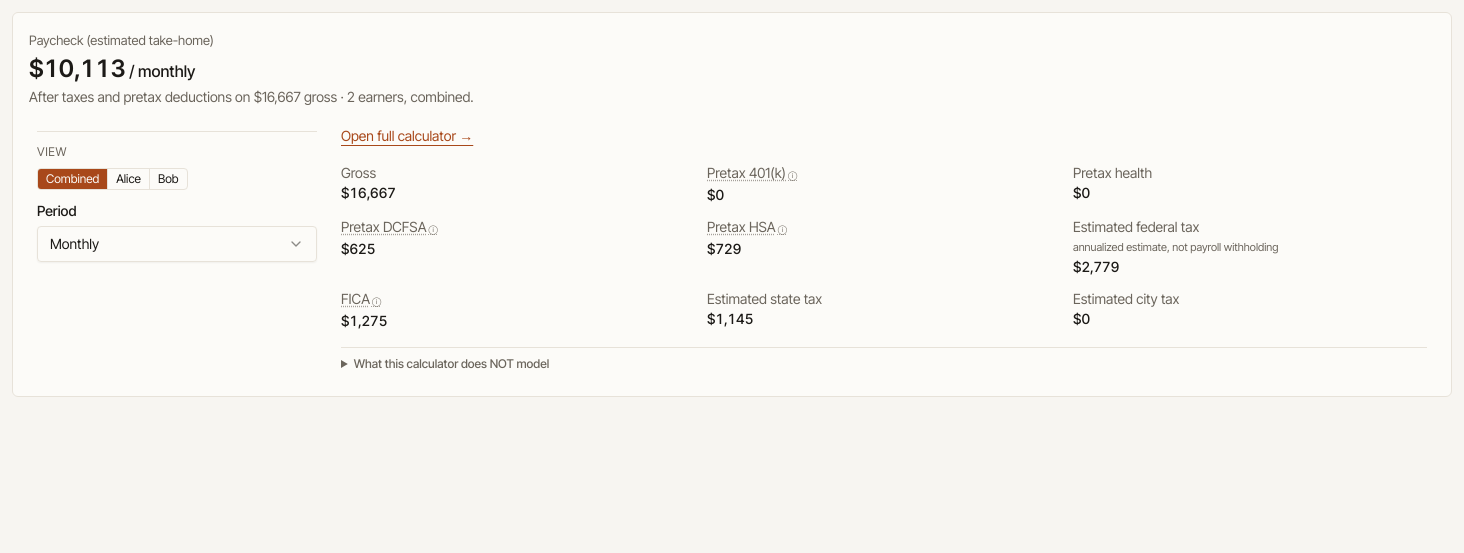
Test: PaycheckCard › dual-earner DCFSA/HSA cap once per return on the paycheck card (round-3 M1)
The image size is (1464, 553).
expect the element with test id "paycheck-takehome" is shown: met, box [29,54,196,82]
# Annual period so the pretax rows show the yearly caps verbatim.
Click the dropdown named "period": (75, 243) [37,226,317,262]
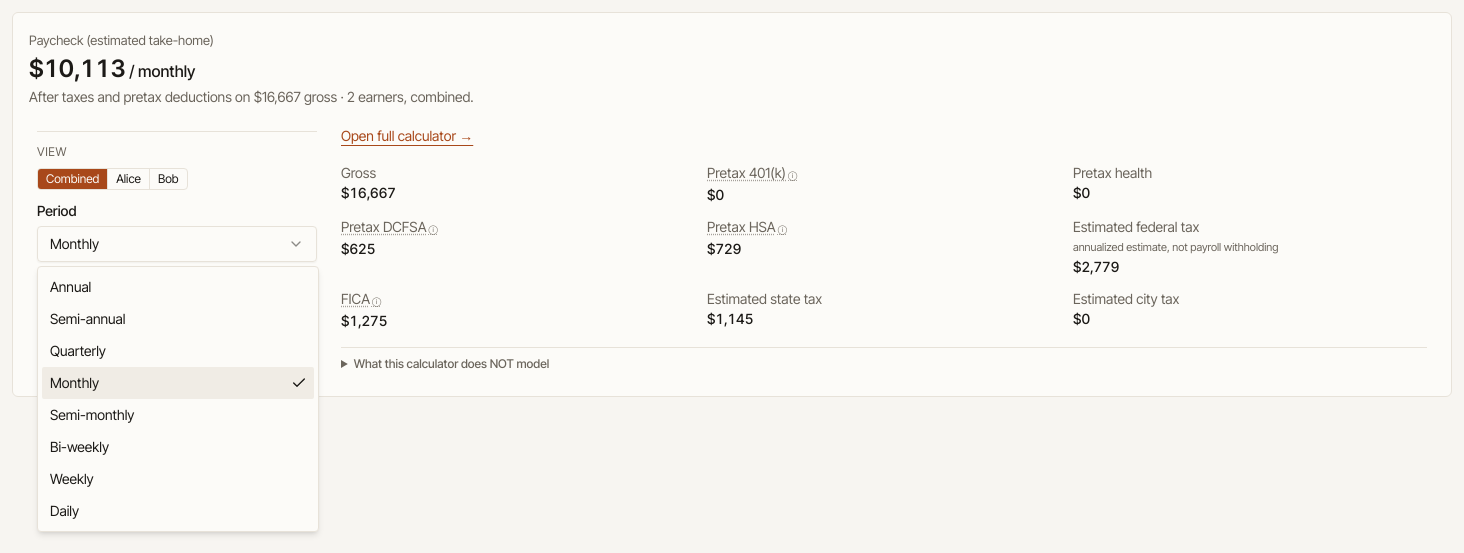
Click the option "Annual": (71, 286) [50,278,91,295]
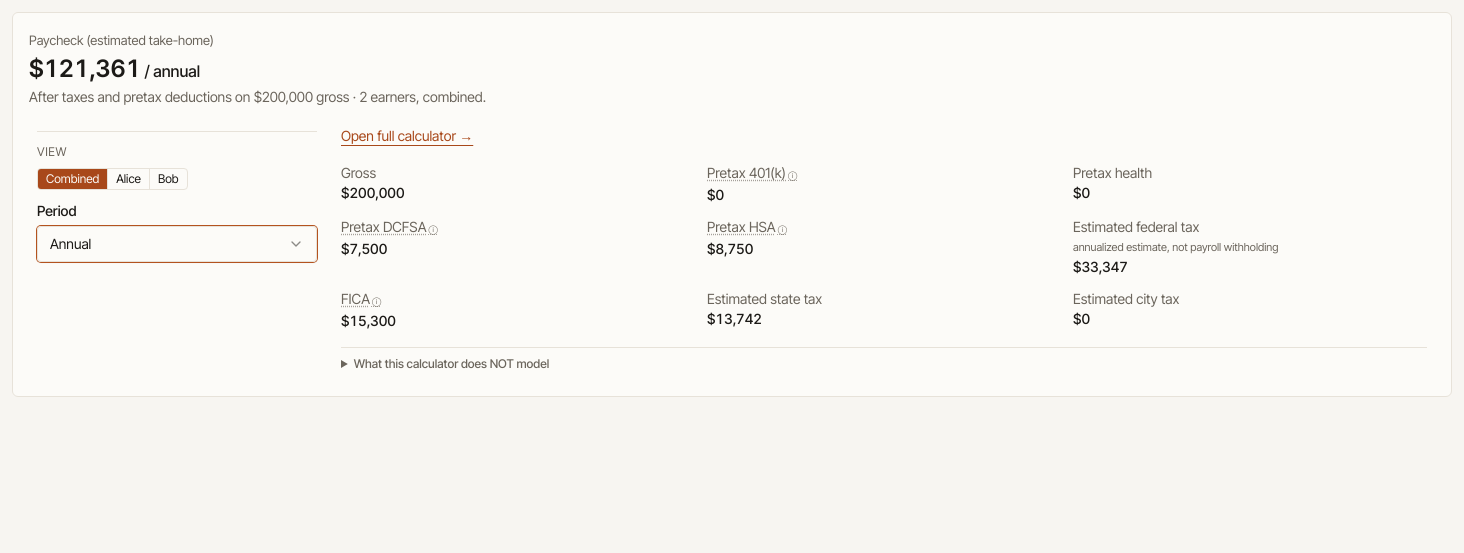
expect the text "$7,500" is shown: met, box [341,240,387,256]
expect the text "$8,750" is shown: met, box [707,240,753,256]
